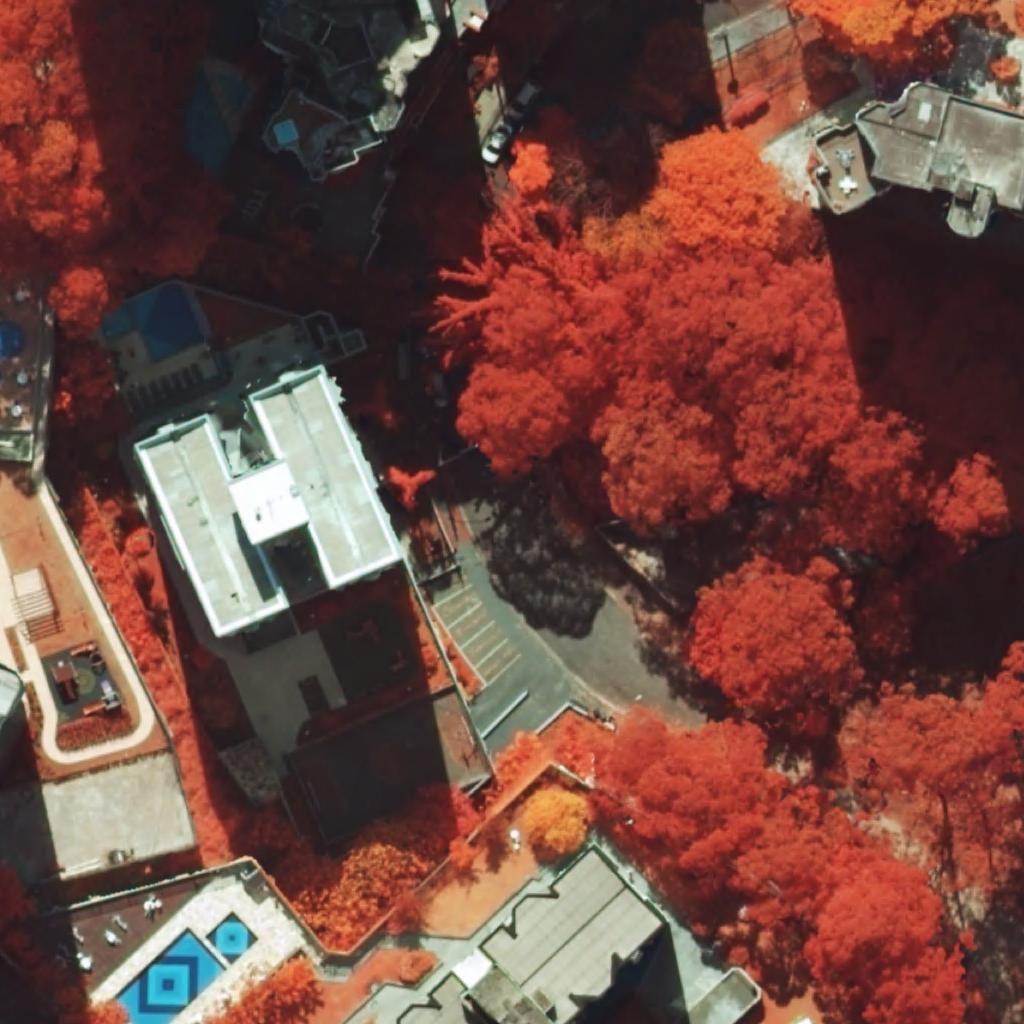pool: (114, 927, 227, 1023), (100, 283, 204, 365), (205, 910, 259, 965)
